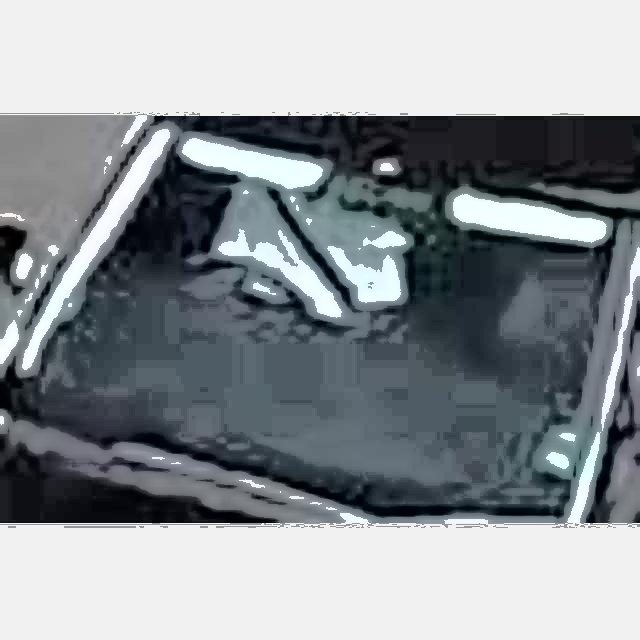pakai: (204, 161, 413, 371)
